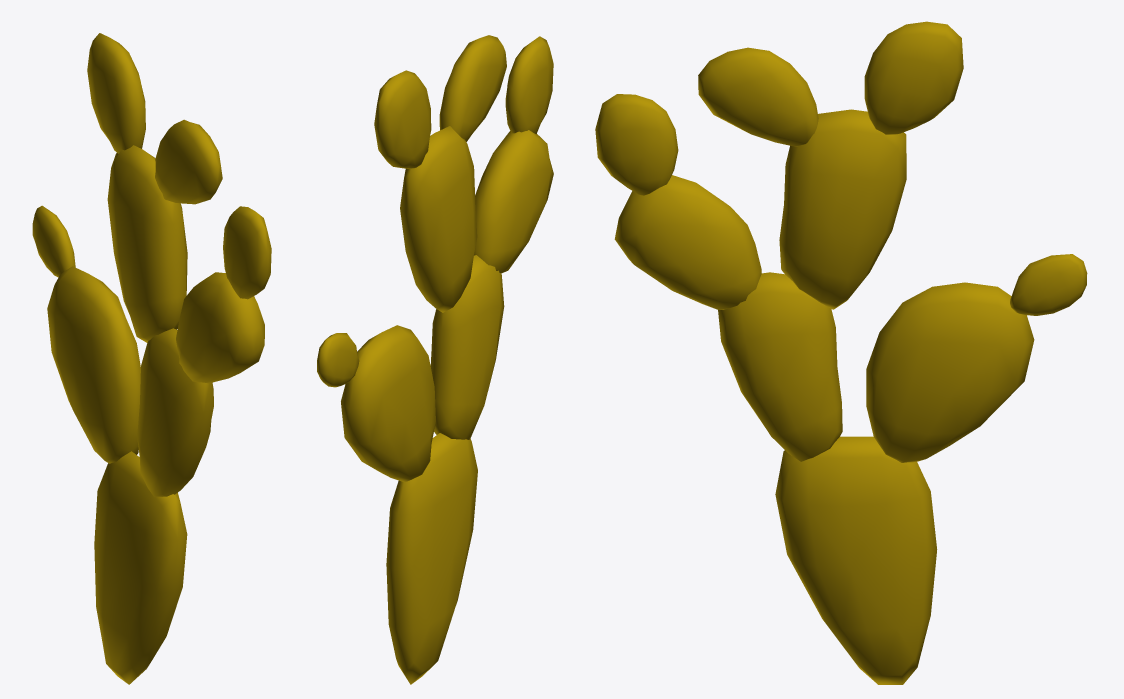
Rendered from Cactus_5.fbx.
3 renders of one model, left to right at view 1: azimuth 30°, elevation 25°; view 2: azimuth 150°, elevation 25°; view 3: azimuth 270°, elevation 25°, orthographic. The views are drawn at different scales.
Visible parts, largest first — view 1: CactusFlowers_4; view 2: CactusFlowers_4; view 3: CactusFlowers_4.
Boxes of the visible parts, <box> form: CactusFlowers_4: <box>32,33,271,684</box>; CactusFlowers_4: <box>317,35,553,684</box>; CactusFlowers_4: <box>595,21,1087,684</box>.
Size of the model in its own units: 11 by 138 by 97.2.
